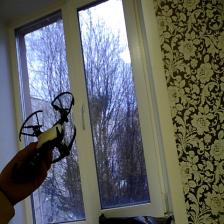drone: (18, 89, 80, 180)
